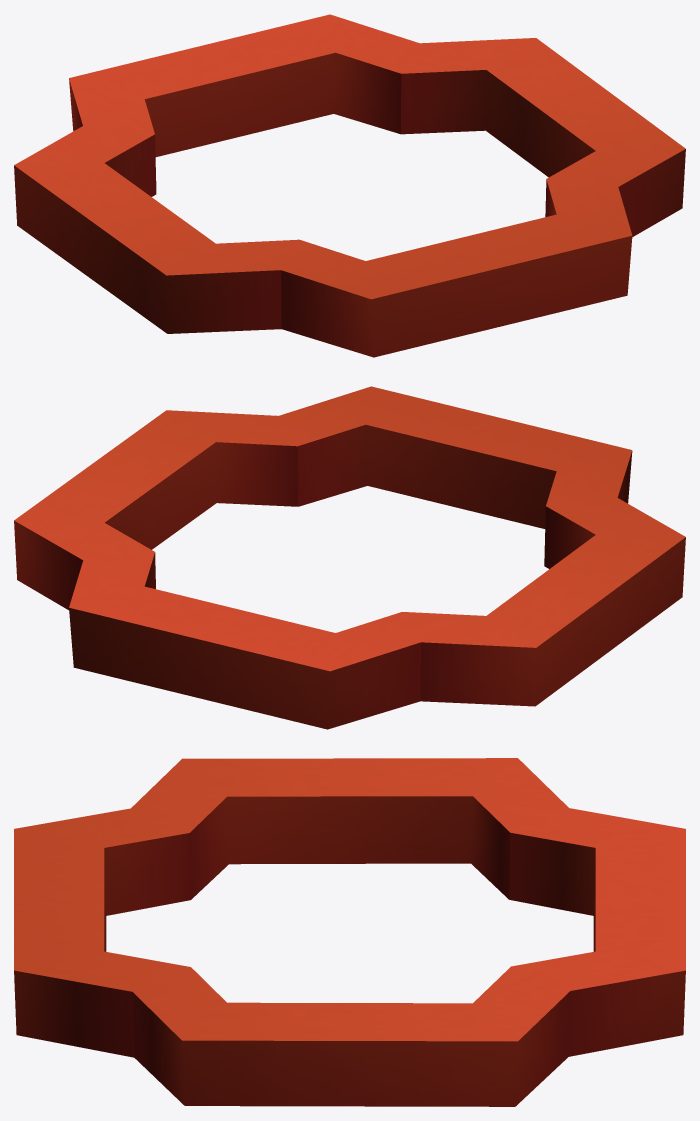
Rendered from paprika_red_slice.fbx.
3 views of the same model, one above another, from view 1: azimuth 30°, elevation 25°; view 2: azimuth 150°, elevation 25°; view 3: azimuth 270°, elevation 25° (orthographic). The views are drawn at different scales.
Visible parts, largest first — view 1: paprika_red_slice; view 2: paprika_red_slice; view 3: paprika_red_slice.
Boxes of the visible parts, <box> form: paprika_red_slice: <box>14,14,685,357</box>; paprika_red_slice: <box>14,386,685,729</box>; paprika_red_slice: <box>14,758,685,1106</box>.
Size of the model in its own units: 22.67 by 2.49 by 22.73.
